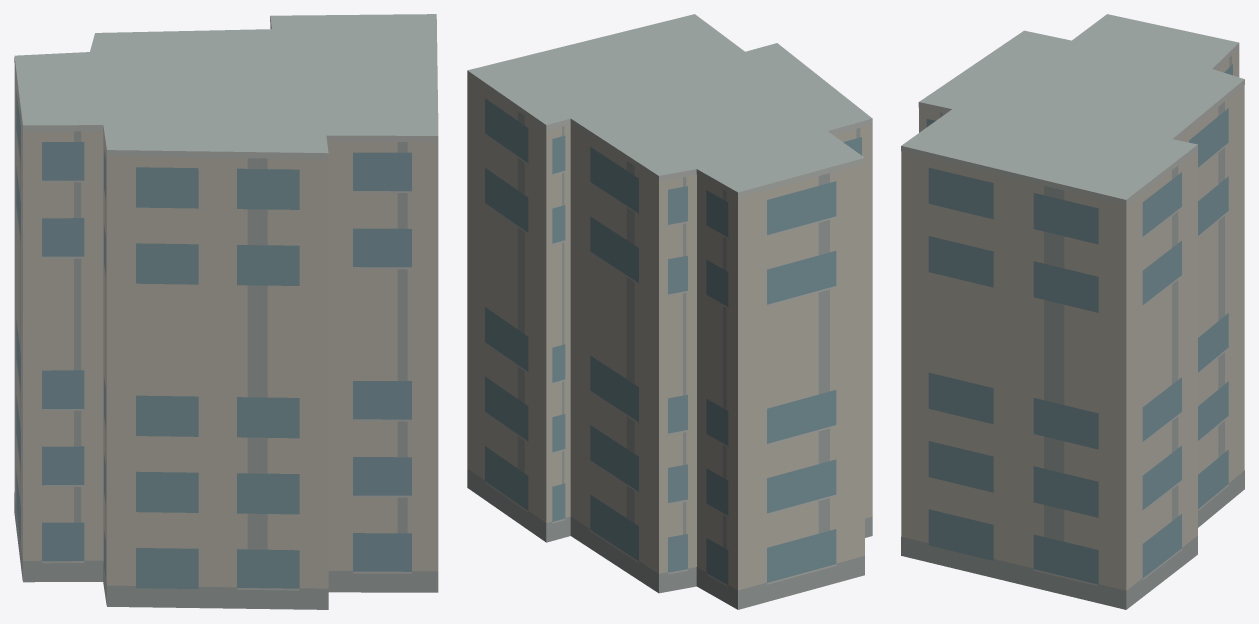
Rendered from survey-upis-32848147.glb.
The picture shows the model from 3 angles, left to right: view 1: azimuth 30°, elevation 25°; view 2: azimuth 150°, elevation 25°; view 3: azimuth 270°, elevation 25°; orthographic projection. The views are drawn at different scales.
Parts seen in each view (by area): view 1: survey-upis-32848147.tmp; view 2: survey-upis-32848147.tmp; view 3: survey-upis-32848147.tmp.
Boxes of the visible parts, left/top/right/bottom form: survey-upis-32848147.tmp: left=14, top=14, right=438, bottom=609; survey-upis-32848147.tmp: left=467, top=14, right=872, bottom=609; survey-upis-32848147.tmp: left=901, top=14, right=1244, bottom=609.
Size of the model in its own units: 17.42 by 17.9 by 13.61.
